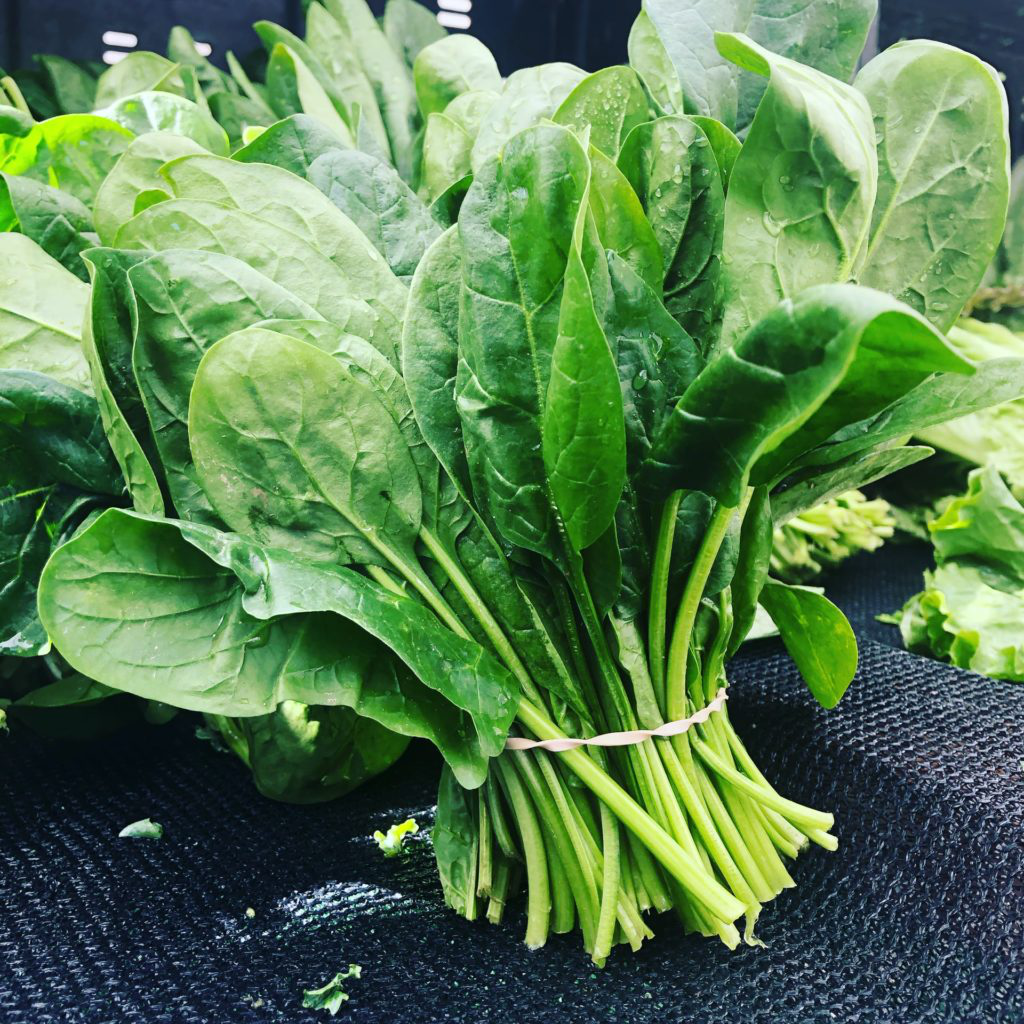Bayam: (91, 136, 920, 911)
